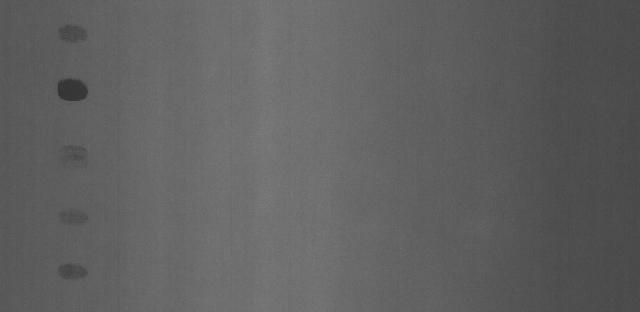oil_spot: (54, 145, 93, 175), (52, 76, 89, 103), (54, 203, 92, 229), (53, 21, 90, 46), (50, 260, 91, 282)
